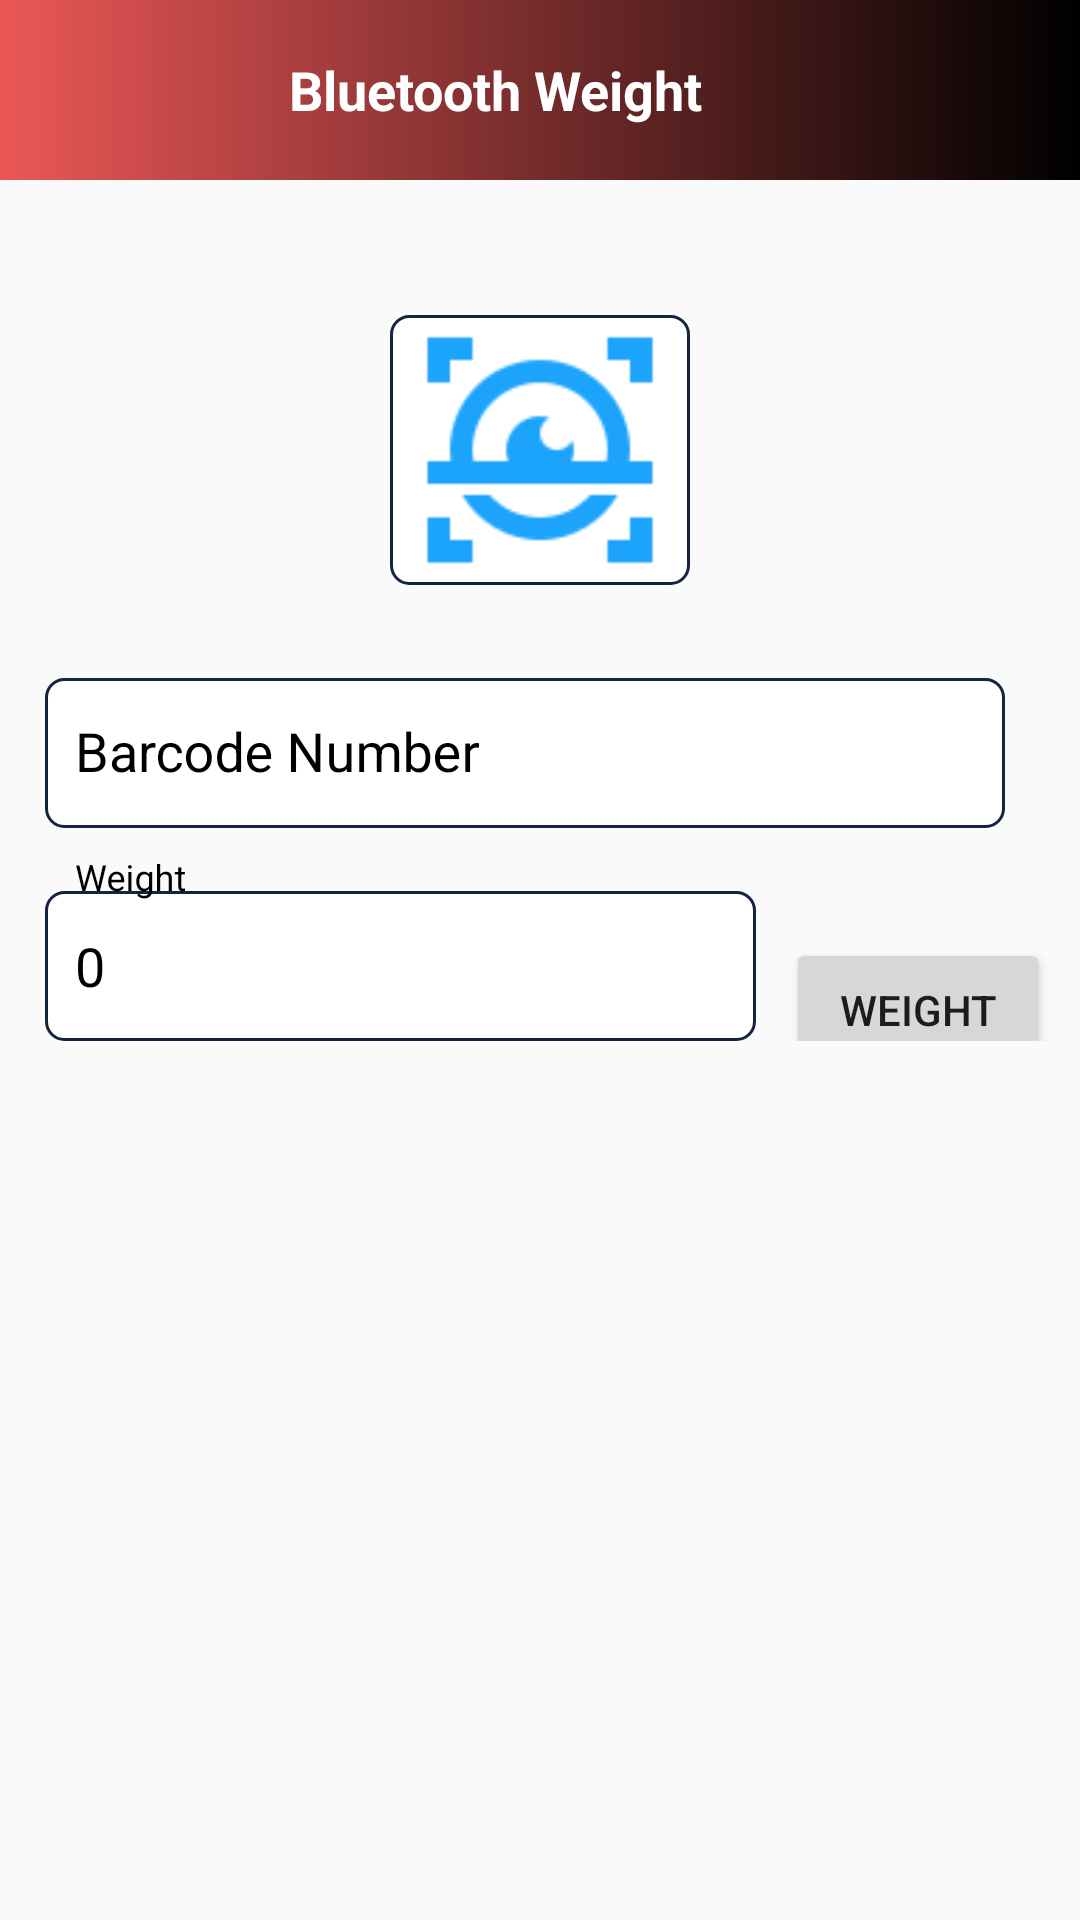

Screen size 1080px x 1920px. Icon name, then its box in pixels as (x1, y1, x2, y2):
scan: (390, 315, 690, 585)
